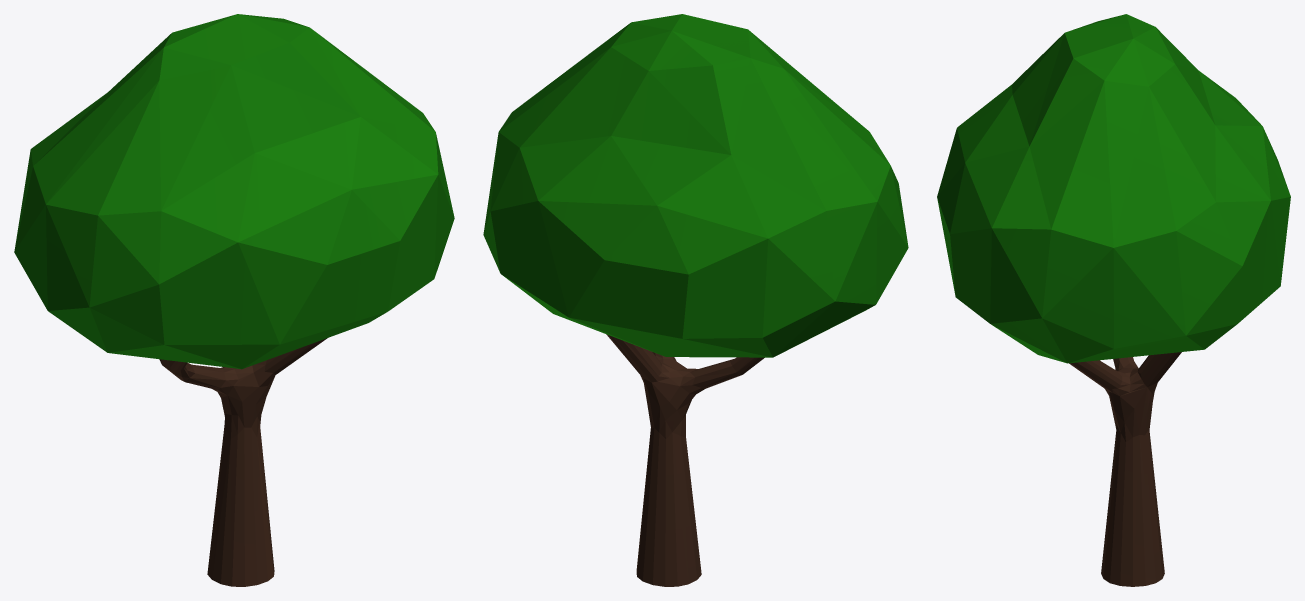
Rendered from 3Stad.fbx.
The picture shows the model from 3 angles, left to right: view 1: azimuth 30°, elevation 25°; view 2: azimuth 150°, elevation 25°; view 3: azimuth 270°, elevation 25°; orthographic projection. The views are drawn at different scales.
Visible parts, largest first — view 1: Cube.029; view 2: Cube.029; view 3: Cube.029.
Boxes of the visible parts, x1,y1,x2,y2 form: Cube.029: (14,14,454,586); Cube.029: (483,14,908,586); Cube.029: (937,14,1290,586).
Size of the model in its own units: 78.22 by 111 by 66.72.
